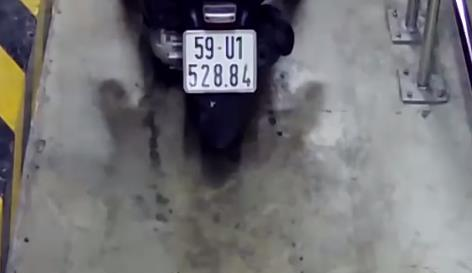lisence: (181, 30, 257, 94)
